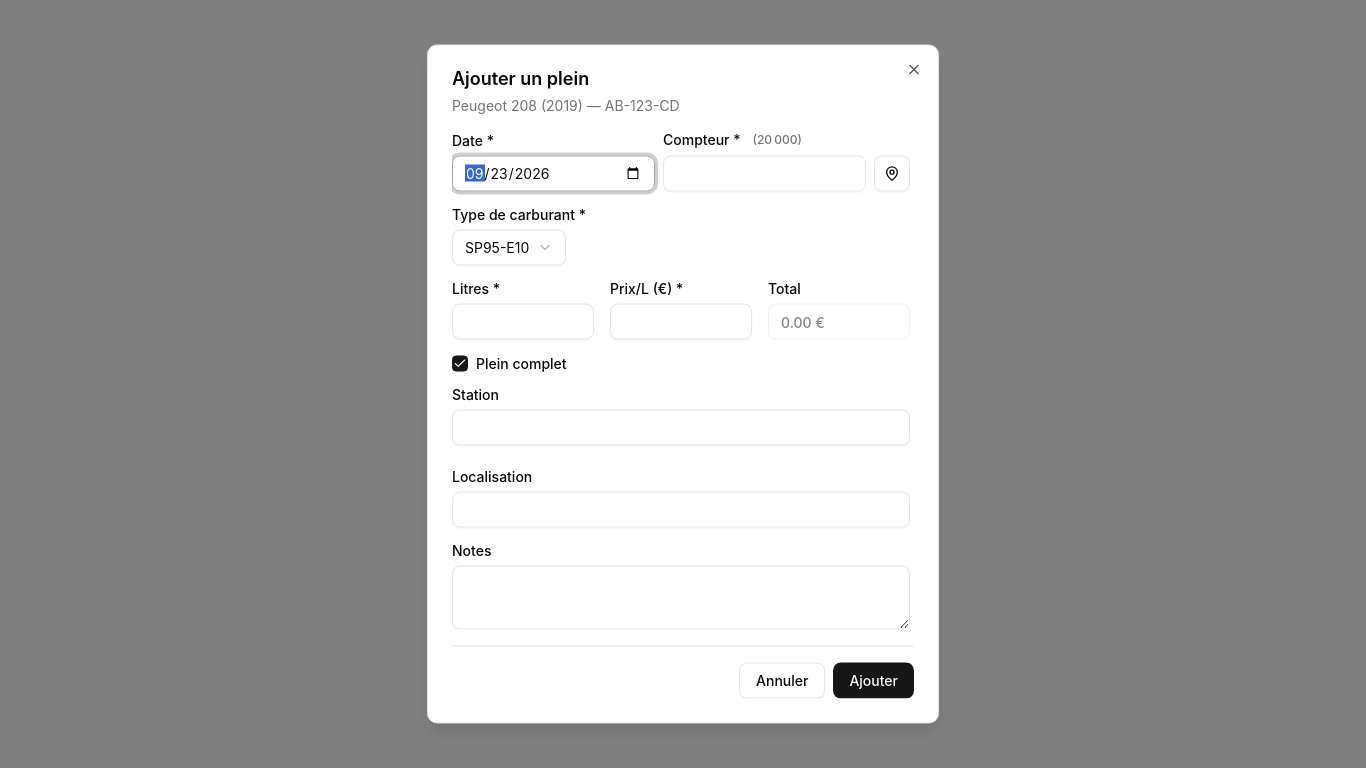
Test: FuelAddDialog › fuel type mismatch: warning shown when selecting diesel on an essence car
Expected: the heading "Ajouter un plein" is shown, x1=452 y1=68 x2=589 y2=88
Click the dropdown "SP95-E10". click: (509, 248)
box: x1=452 y1=230 x2=566 y2=266
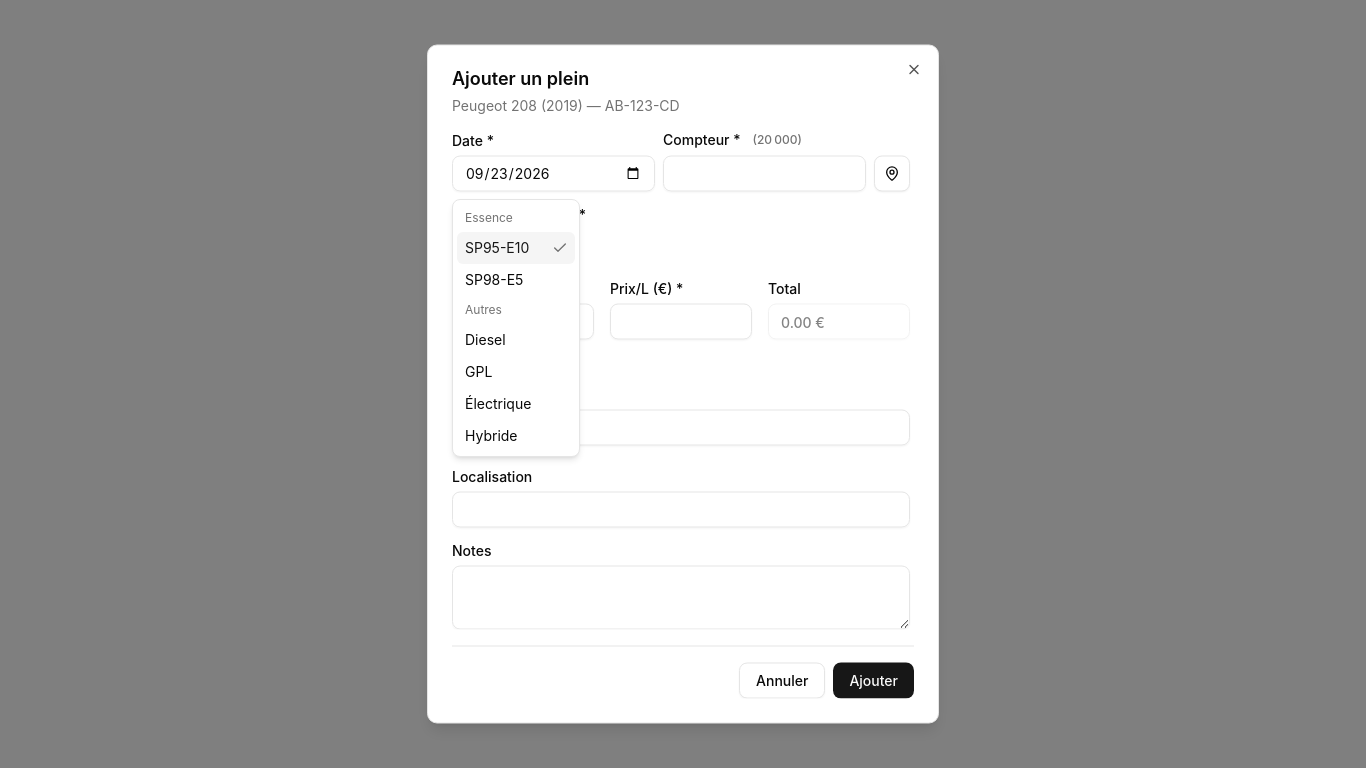
Click the option "Diesel". click: (485, 339)
box: x1=465 y1=330 x2=506 y2=348
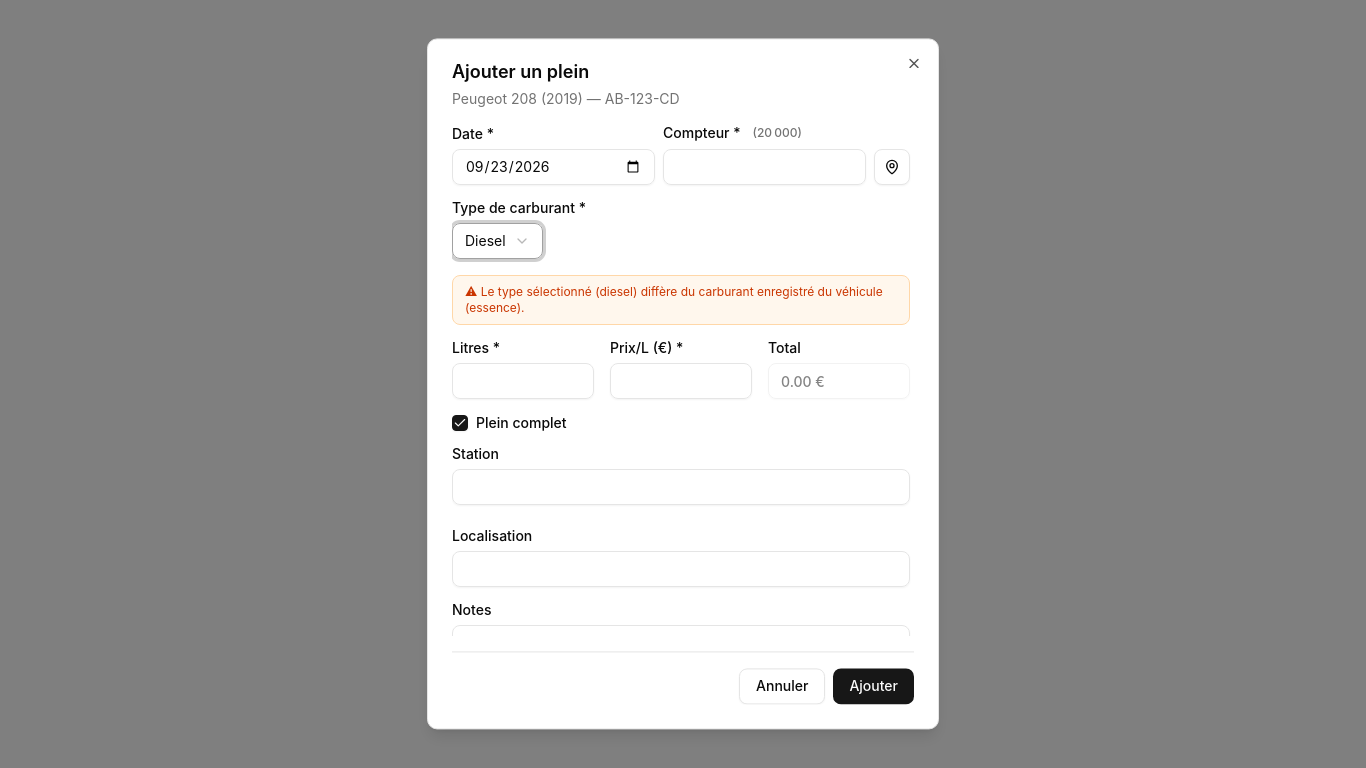
Expected: the text "Le type sélectionné (diesel) diffère" is shown, x1=452 y1=275 x2=910 y2=325
